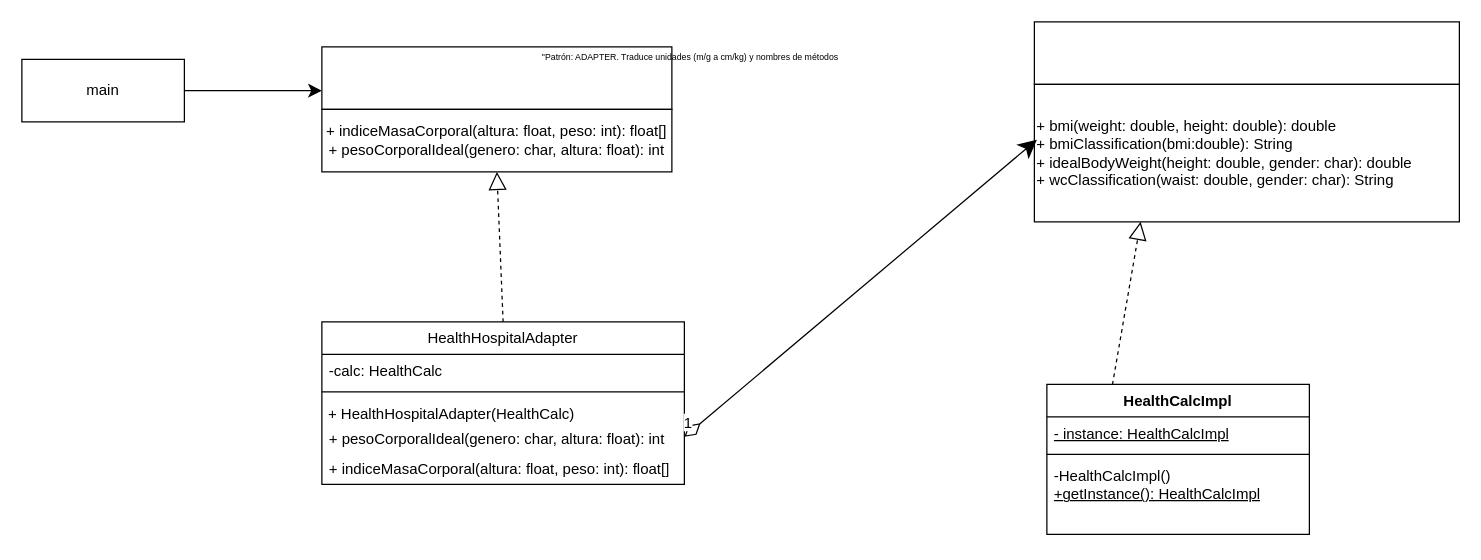
Some shapes in this 1481 by 560 pixel diagram are drawn without their labels. Here are the shapes that lost their labels. From the top down, the centre of each, then its label:
(1246,52): «interface» HealthCalc
(496,77): «interface» HealthHospital
